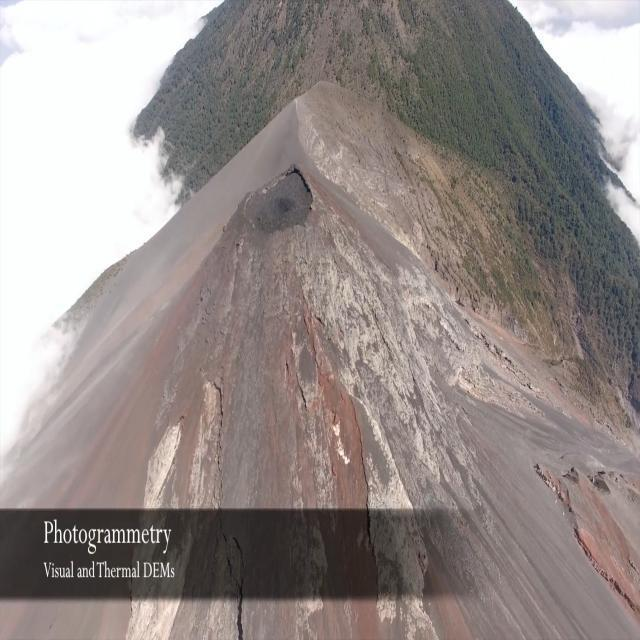Summit: (108, 162, 547, 508)
